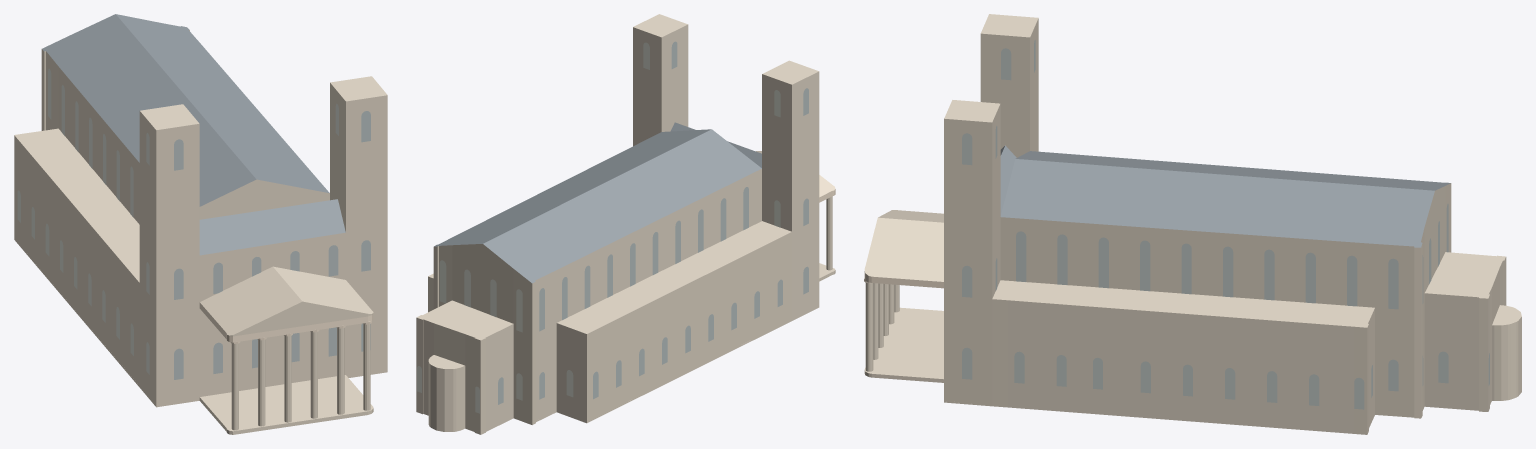
3 views of the same model, side by side, from view 1: azimuth 30°, elevation 25°; view 2: azimuth 150°, elevation 25°; view 3: azimuth 270°, elevation 25° (orthographic). The views are drawn at different scales.
Parts seen in each view (by area): view 1: stone, roof, window, trim; view 2: stone, roof, window; view 3: stone, roof, window.
Part boxes in pixels (left/top/right/bottom): stone: left=14, top=30, right=387, bottom=434; roof: left=42, top=14, right=345, bottom=255; window: left=17, top=68, right=370, bottom=379; trim: left=199, top=302, right=373, bottom=343; stone: left=416, top=14, right=835, bottom=434; roof: left=434, top=122, right=761, bottom=283; window: left=417, top=41, right=808, bottom=413; stone: left=864, top=14, right=1521, bottom=434; roof: left=1000, top=145, right=1450, bottom=247; window: left=962, top=40, right=1489, bottom=409.
Size of the model in its own units: 46.64 by 45 by 94.52.
